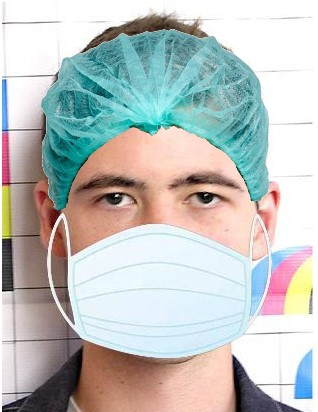with_mask_and_cap: (39, 33, 275, 358)
